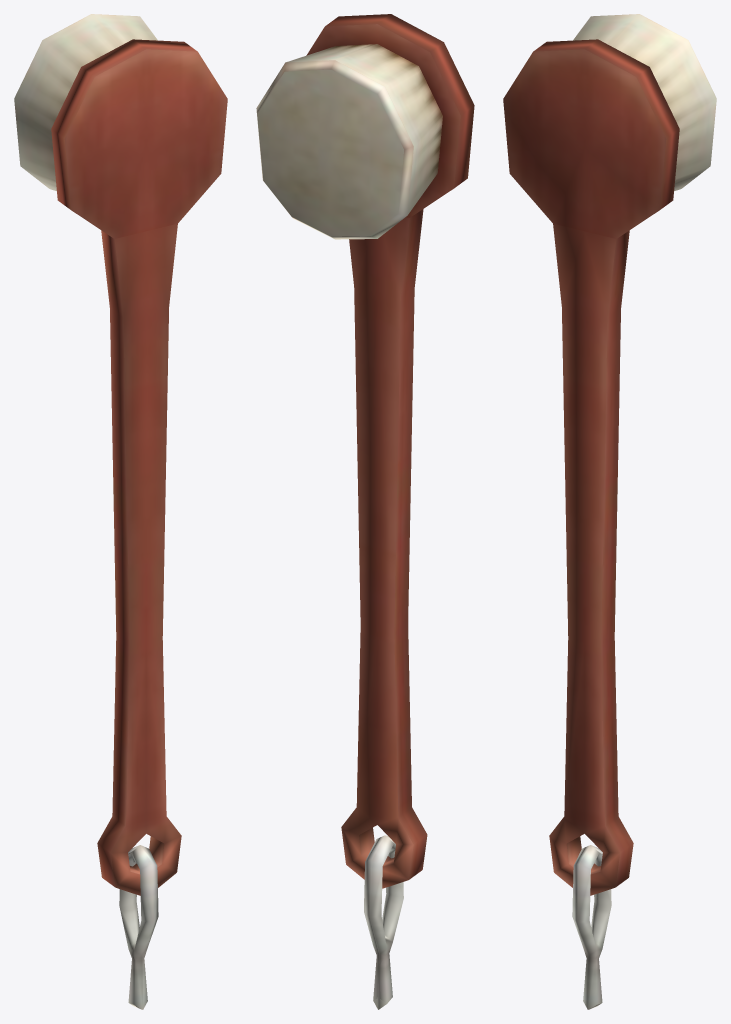
Rendered from bathBrush.glb.
3 views of the same model, side by side, from view 1: azimuth 30°, elevation 25°; view 2: azimuth 150°, elevation 25°; view 3: azimuth 330°, elevation 25° (orthographic). The views are drawn at different scales.
Parts seen in each view (by area): view 1: bathBrush; view 2: bathBrush; view 3: bathBrush.
Part boxes in pixels (<box>): bathBrush: <box>14,14,227,1009</box>; bathBrush: <box>256,14,474,1009</box>; bathBrush: <box>503,14,716,1009</box>.
Bounding box in the file's own units: 0.0953 × 0.5392 × 0.0687.
Materials: 1 (1 with a texture image).
